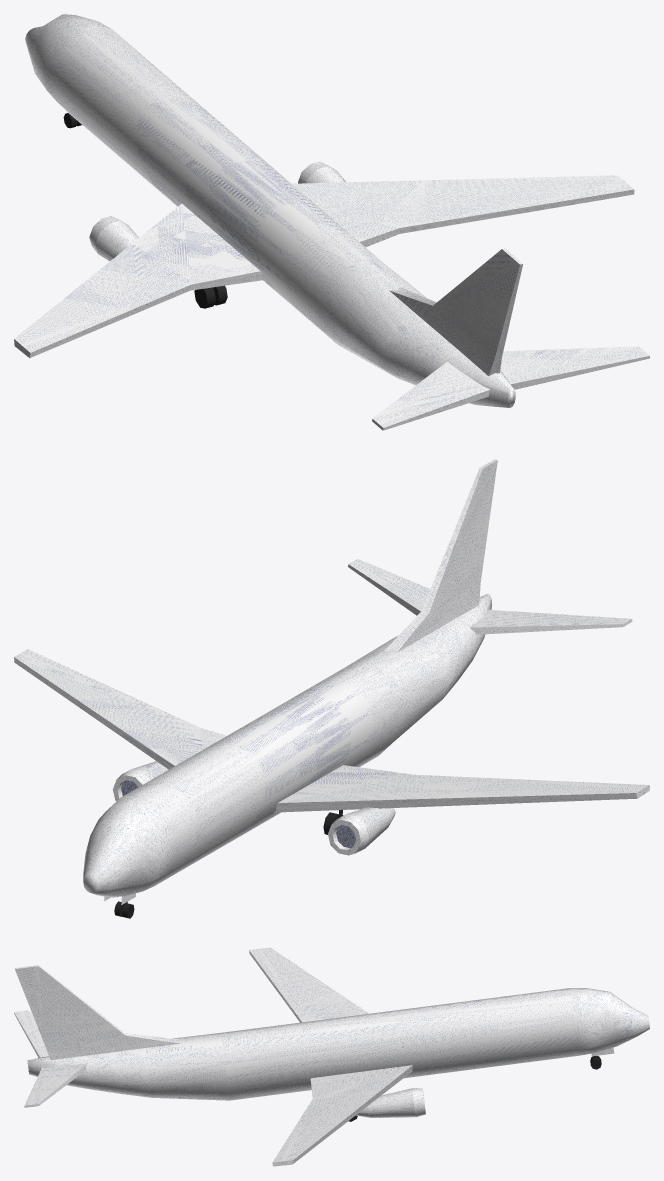
The model's file is aircraft.dae.
3 renders of one model, top to bottom at view 1: azimuth 30°, elevation 25°; view 2: azimuth 150°, elevation 25°; view 3: azimuth 270°, elevation 25°, orthographic. The views are drawn at different scales.
Visible parts, largest first — view 1: Group2, wing12, wing, Group1, tail, tail12, engine (×2); view 2: Group2, wing12, wing, Group1, engine (×2), tail12, tail; view 3: Group2, Group1, wing, wing12, engine, tail, tail12.
Part boxes in pixels (x1=…): Group2: x1=25, y1=14, x2=515, y2=407; wing12: x1=14, y1=203, x2=263, y2=358; wing: x1=292, y1=175, x2=634, y2=247; Group1: x1=389, y1=248, x2=522, y2=375; tail: x1=500, y1=346, x2=649, y2=389; tail12: x1=372, y1=362, x2=489, y2=430; engine (×2): x1=89, y1=161, x2=346, y2=261; Group2: x1=83, y1=594, x2=491, y2=897; wing12: x1=274, y1=765, x2=649, y2=812; wing: x1=14, y1=649, x2=226, y2=769; Group1: x1=384, y1=459, x2=497, y2=652; engine (×2): x1=112, y1=761, x2=395, y2=855; tail12: x1=469, y1=609, x2=632, y2=634; tail: x1=348, y1=559, x2=430, y2=615; Group2: x1=27, y1=988, x2=649, y2=1100; Group1: x1=14, y1=965, x2=179, y2=1060; wing: x1=272, y1=1065, x2=412, y2=1166; wing12: x1=249, y1=947, x2=368, y2=1022; engine: x1=356, y1=1088, x2=425, y2=1117; tail: x1=24, y1=1063, x2=86, y2=1107; tail12: x1=14, y1=1010, x2=48, y2=1057.
Size of the model in its own units: 1135 by 1432 by 347.
